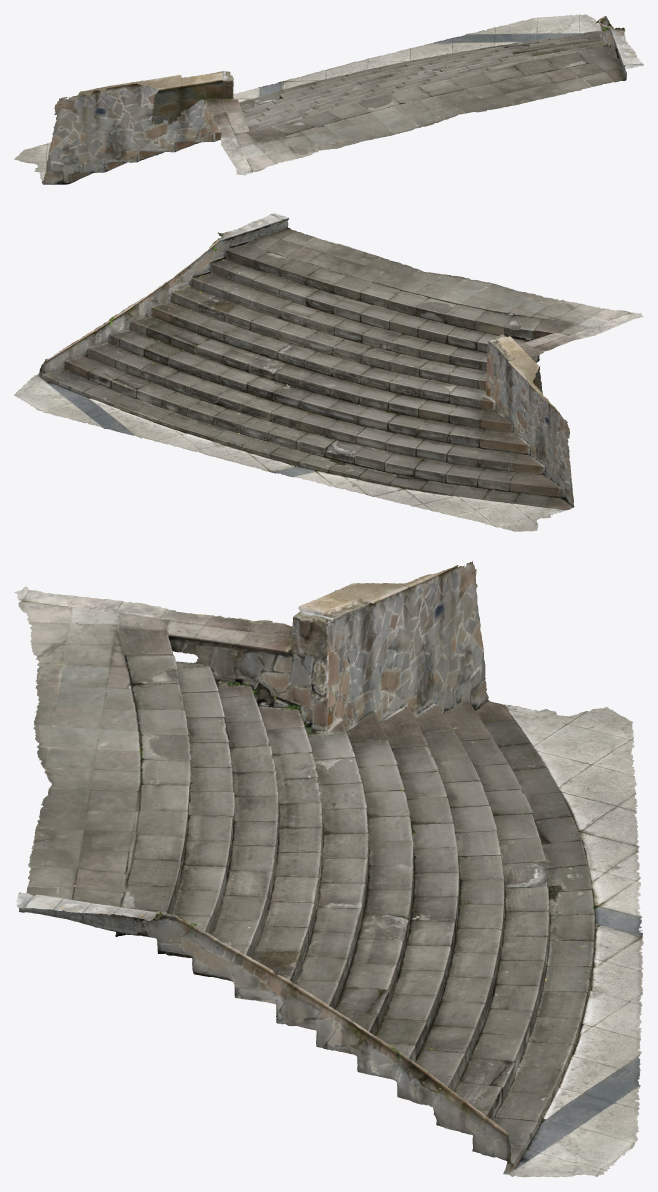
The model's file is stone_stairs_01.glb.
The picture shows the model from 3 angles, top to bottom: view 1: azimuth 30°, elevation 25°; view 2: azimuth 150°, elevation 25°; view 3: azimuth 270°, elevation 25°; orthographic projection. The views are drawn at different scales.
Parts seen in each view (by area): view 1: Object_4, Object_3, Object_2, Object_5; view 2: Object_2, Object_3, Object_4, Object_5; view 3: Object_2, Object_4, Object_3, Object_5.
Boxes of the visible parts, box(x1,y1,x2,y2) form: Object_4: box(14, 17, 625, 183); Object_3: box(233, 18, 643, 157); Object_2: box(239, 53, 591, 148); Object_5: box(28, 14, 639, 184); Object_2: box(158, 237, 556, 493); Object_3: box(55, 213, 584, 499); Object_4: box(49, 219, 643, 531); Object_5: box(14, 214, 603, 524); Object_2: box(27, 657, 643, 1042); Object_4: box(14, 561, 638, 1142); Object_3: box(15, 637, 643, 1135); Object_5: box(16, 566, 641, 1177).
Bounding box in the file's own units: 39.85 × 7.69 × 21.74.
1 material, 1 textured.
